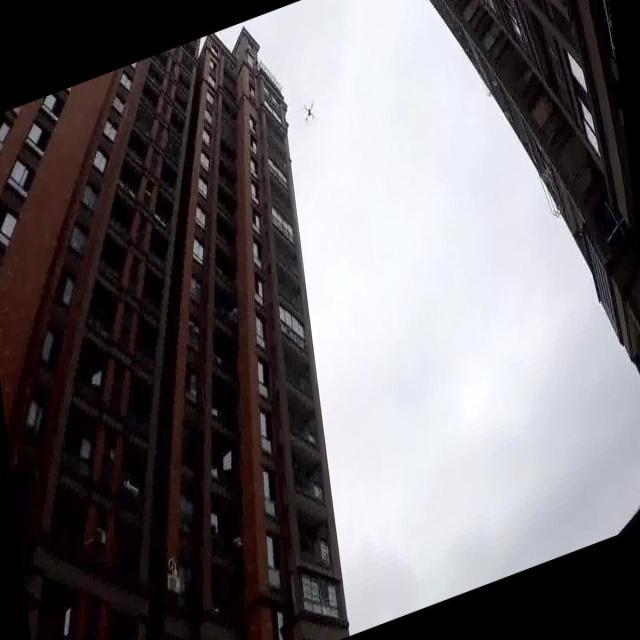drone: (300, 92, 320, 130)
